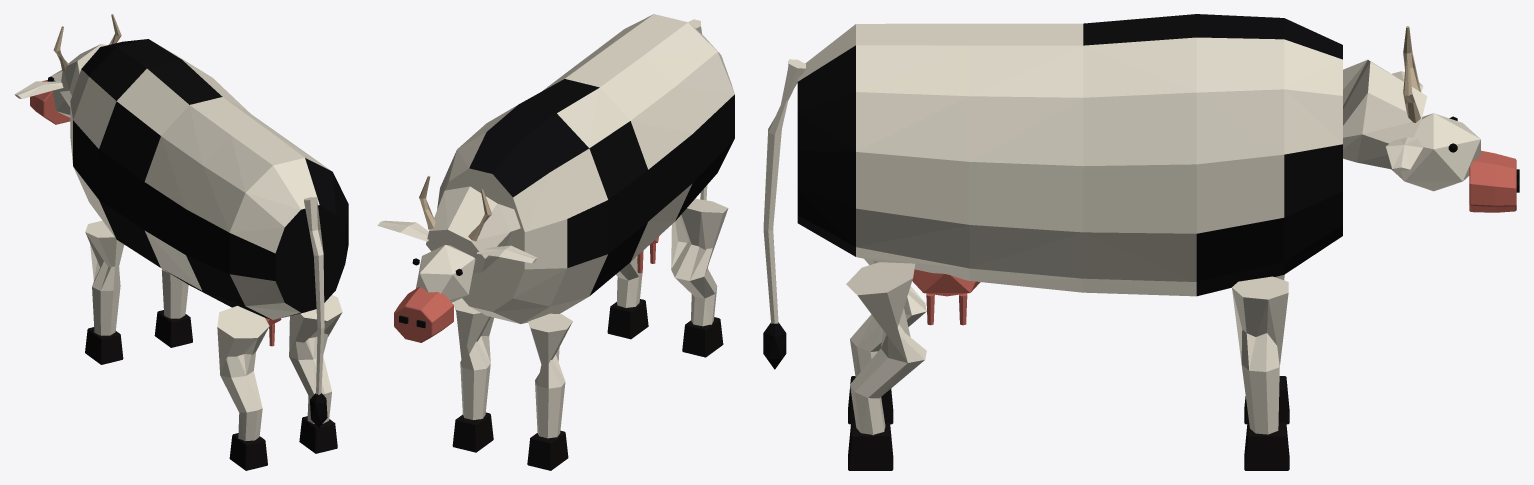
Rendered from ANIMAL_08_Cow.obj.
3 views of the same model, side by side, from view 1: azimuth 30°, elevation 25°; view 2: azimuth 150°, elevation 25°; view 3: azimuth 270°, elevation 25° (orthographic). The views are drawn at different scales.
Visible parts, largest first — view 1: ANIMAL_08_Cow_Body, ANIMAL_08_Cow_Leg_Rear_R, ANIMAL_08_Cow_Leg_Front_R, ANIMAL_08_Cow_Leg_Rear_L, ANIMAL_08_Cow_Tail, ANIMAL_08_Cow_Hoof_Rear_R, ANIMAL_08_Cow_Hoof_Front_R, ANIMAL_08_Cow_Hoof_Front_L, ANIMAL_08_Cow_Hoof_Rear_L, ANIMAL_08_Cow_Leg_Front_L, ANIMAL_08_Cow_Neck, ANIMAL_08_Cow_Muzzle (+3 smaller); view 2: ANIMAL_08_Cow_Body, ANIMAL_08_Cow_Leg_Rear_R, ANIMAL_08_Cow_Neck, ANIMAL_08_Cow_Leg_Front_R, ANIMAL_08_Cow_Leg_Front_L, ANIMAL_08_Cow_Head, ANIMAL_08_Cow_Muzzle, ANIMAL_08_Cow_Hoof_Front_L, ANIMAL_08_Cow_Hoof_Front_R, ANIMAL_08_Cow_Hoof_Rear_L, ANIMAL_08_Cow_Hoof_Rear_R, ANIMAL_08_Cow_Leg_Rear_L (+3 smaller); view 3: ANIMAL_08_Cow_Body, ANIMAL_08_Cow_Leg_Rear_L, ANIMAL_08_Cow_Leg_Front_L, ANIMAL_08_Cow_Neck, ANIMAL_08_Cow_Head, ANIMAL_08_Cow_Tail, ANIMAL_08_Cow_Muzzle, ANIMAL_08_Cow_Hoof_Front_L, ANIMAL_08_Cow_Leg_Rear_R, ANIMAL_08_Cow_Hoof_Rear_L, ANIMAL_08_Cow_Udder, ANIMAL_08_Cow_Ear_L (+1 smaller).
Part boxes in pixels (<box>): ANIMAL_08_Cow_Body: <box>70,39,348,319</box>; ANIMAL_08_Cow_Leg_Rear_R: <box>217,306,269,440</box>; ANIMAL_08_Cow_Leg_Front_R: <box>85,220,124,335</box>; ANIMAL_08_Cow_Leg_Rear_L: <box>289,295,342,423</box>; ANIMAL_08_Cow_Tail: <box>304,197,324,394</box>; ANIMAL_08_Cow_Hoof_Rear_R: <box>229,433,267,470</box>; ANIMAL_08_Cow_Hoof_Front_R: <box>85,327,123,364</box>; ANIMAL_08_Cow_Hoof_Front_L: <box>154,310,192,347</box>; ANIMAL_08_Cow_Hoof_Rear_L: <box>299,416,337,453</box>; ANIMAL_08_Cow_Leg_Front_L: <box>161,269,188,318</box>; ANIMAL_08_Cow_Neck: <box>60,44,106,106</box>; ANIMAL_08_Cow_Muzzle: <box>30,80,70,124</box>; ANIMAL_08_Cow_Body: <box>437,14,734,323</box>; ANIMAL_08_Cow_Leg_Rear_R: <box>671,198,728,326</box>; ANIMAL_08_Cow_Neck: <box>426,186,520,273</box>; ANIMAL_08_Cow_Leg_Front_R: <box>528,313,572,438</box>; ANIMAL_08_Cow_Leg_Front_L: <box>453,298,493,419</box>; ANIMAL_08_Cow_Head: <box>416,245,475,302</box>; ANIMAL_08_Cow_Muzzle: <box>394,286,453,342</box>; ANIMAL_08_Cow_Hoof_Front_L: <box>452,412,493,452</box>; ANIMAL_08_Cow_Hoof_Front_R: <box>527,430,568,470</box>; ANIMAL_08_Cow_Hoof_Rear_L: <box>607,299,648,339</box>; ANIMAL_08_Cow_Hoof_Rear_R: <box>682,317,723,357</box>; ANIMAL_08_Cow_Leg_Rear_L: <box>616,257,642,307</box>; ANIMAL_08_Cow_Body: <box>797,14,1342,296</box>; ANIMAL_08_Cow_Leg_Rear_L: <box>846,262,926,435</box>; ANIMAL_08_Cow_Leg_Front_L: <box>1232,276,1288,434</box>; ANIMAL_08_Cow_Neck: <box>1343,59,1427,169</box>; ANIMAL_08_Cow_Head: <box>1391,113,1480,191</box>; ANIMAL_08_Cow_Tail: <box>763,59,805,323</box>; ANIMAL_08_Cow_Muzzle: <box>1469,150,1516,212</box>; ANIMAL_08_Cow_Hoof_Front_L: <box>1244,422,1289,470</box>; ANIMAL_08_Cow_Leg_Rear_R: <box>850,259,926,377</box>; ANIMAL_08_Cow_Hoof_Rear_L: <box>848,422,893,470</box>; ANIMAL_08_Cow_Udder: <box>912,269,980,296</box>; ANIMAL_08_Cow_Ear_L: <box>1386,137,1422,171</box>.
Bounding box in the file's own units: 0.7043 × 1.41 × 2.33.
